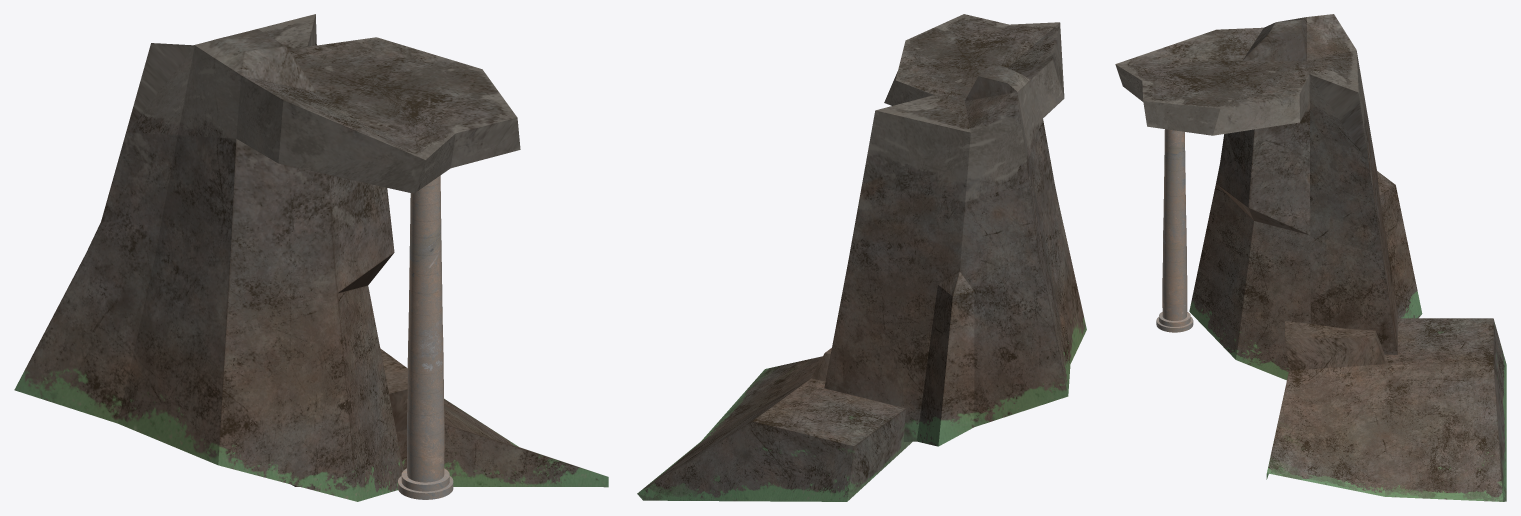
File: BgMD_ground_tutorial06_02.fbx
3 views of the same model, side by side, from view 1: azimuth 30°, elevation 25°; view 2: azimuth 150°, elevation 25°; view 3: azimuth 270°, elevation 25° (orthographic). The views are drawn at different scales.
Parts seen in each view (by area): view 1: ground_tutorial06_01_1, ground_tutorial06_01_2, ground_tutorial06_01_3; view 2: ground_tutorial06_01_1, ground_tutorial06_01_3; view 3: ground_tutorial06_01_1, ground_tutorial06_01_3, ground_tutorial06_01_2.
Part boxes in pixels (x1,y1,x2,y2): ground_tutorial06_01_1: (14, 14, 520, 501); ground_tutorial06_01_2: (398, 175, 453, 499); ground_tutorial06_01_3: (291, 348, 608, 487); ground_tutorial06_01_1: (824, 14, 1086, 446); ground_tutorial06_01_3: (637, 348, 912, 501); ground_tutorial06_01_1: (1115, 14, 1422, 380); ground_tutorial06_01_3: (1266, 318, 1506, 501); ground_tutorial06_01_2: (1156, 129, 1193, 332).
Bounding box in the file's own units: 1585 × 1654 × 1596.
